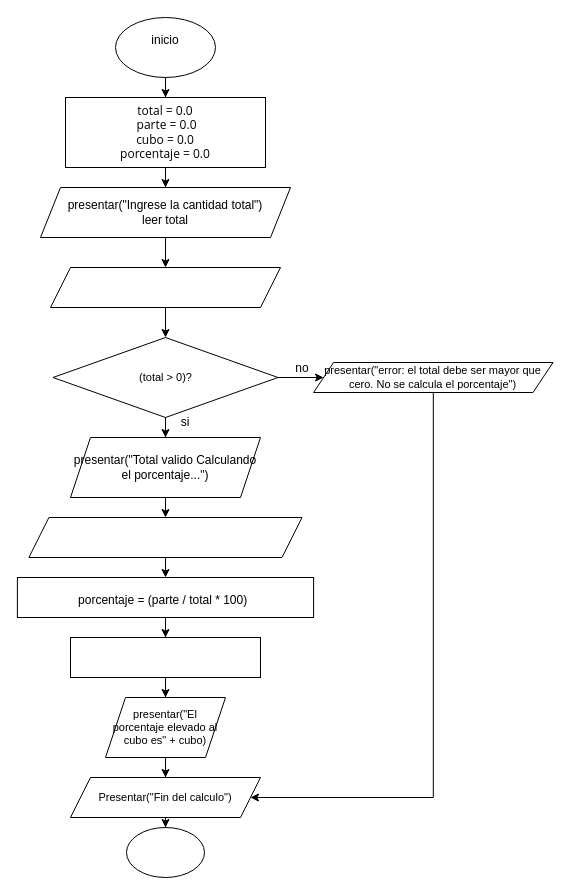
Image size: 571x895. Some labels were removed from this diagram. Each missing label, with the centre of its shape:
cubo = porcentaje ⌃3: point (165, 657)
fin: point (165, 852)
presentar("El porcentaje es" + porcentaje + "%"): point (165, 537)
presentar("Ingrese la parte") leer parte: point (165, 287)
